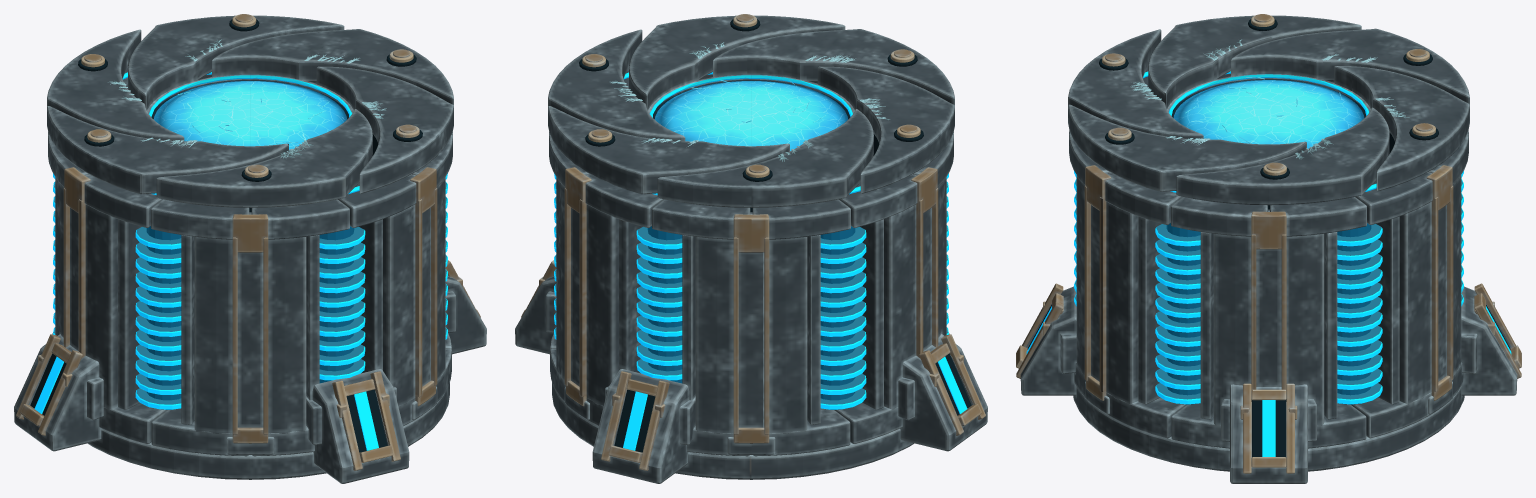
The model's file is frost-optimized.glb.
3 renders of one model, left to right at view 1: azimuth 30°, elevation 25°; view 2: azimuth 150°, elevation 25°; view 3: azimuth 270°, elevation 25°, orthographic.
Parts seen in each view (by area): view 1: Frost fixed body solid, Frost fixed iris solid, Frost fixed iris skin; view 2: Frost fixed body solid, Frost fixed iris solid, Frost fixed iris skin; view 3: Frost fixed body solid, Frost fixed iris solid, Frost fixed iris skin.
Boxes of the visible parts, x1,y1,x2,y2 form: Frost fixed body solid: (14,67,486,483); Frost fixed iris solid: (47,14,453,207); Frost fixed iris skin: (152,74,348,145); Frost fixed body solid: (515,67,987,483); Frost fixed iris solid: (548,14,954,207); Frost fixed iris skin: (653,74,849,145); Frost fixed body solid: (1016,67,1521,483); Frost fixed iris solid: (1068,14,1469,205); Frost fixed iris skin: (1172,73,1365,119).
Bounding box in the file's own units: 0.8169 × 0.5344 × 0.8169.
Materials: 13 (6 with a texture image).
